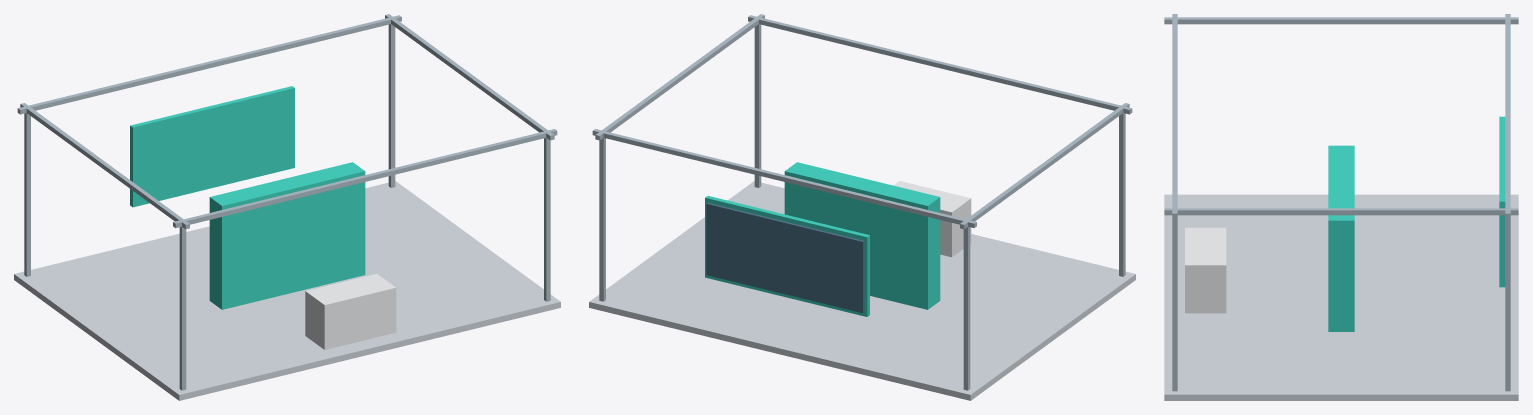
3 renders of one model, left to right at view 1: azimuth 30°, elevation 25°; view 2: azimuth 150°, elevation 25°; view 3: azimuth 270°, elevation 25°, orthographic. The views are drawn at different scales.
Parts seen in each view (by area): view 1: Exhibition Booth Concept; view 2: Exhibition Booth Concept; view 3: Exhibition Booth Concept.
Boxes of the visible parts, x1,y1,x2,y2 form: Exhibition Booth Concept: [14, 14, 560, 400]; Exhibition Booth Concept: [589, 14, 1135, 400]; Exhibition Booth Concept: [1164, 14, 1518, 400].
Size of the model in its own units: 8 by 3.49 by 6.
